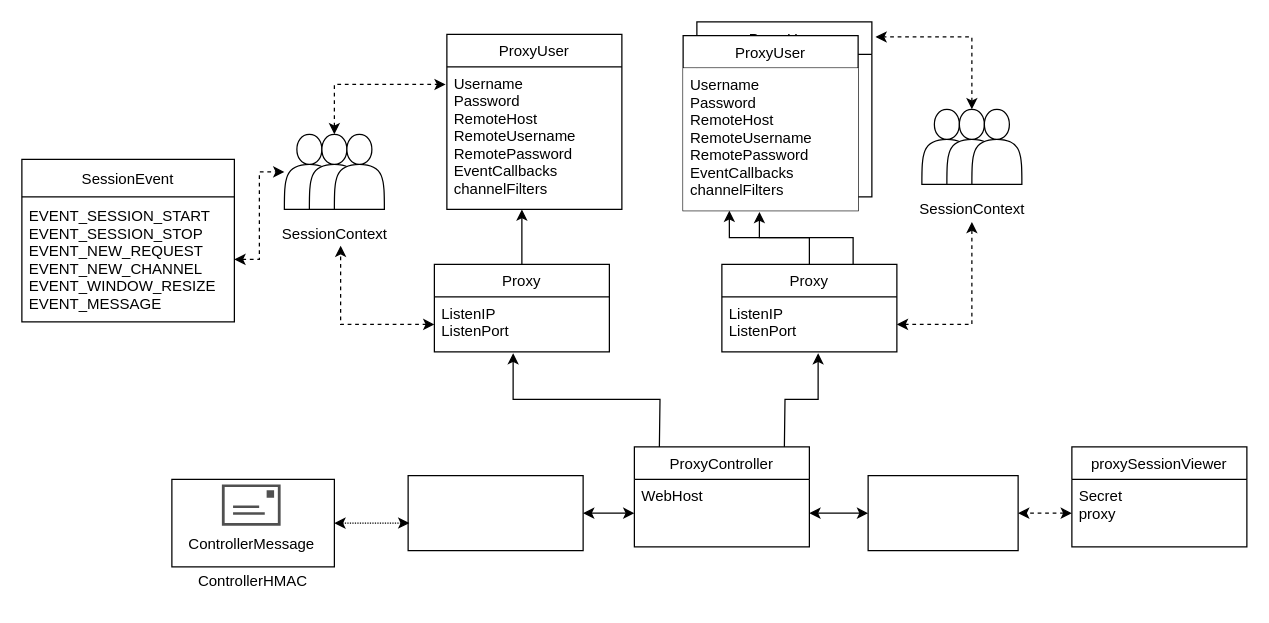
This 1269x623 diagram has some shape labels left out. Here are the shapes that lost their labels. From the top down, the centre of each, then its label:
At point (495, 512): "ProxyControllerSocket".
At point (942, 512): "WebServer".
